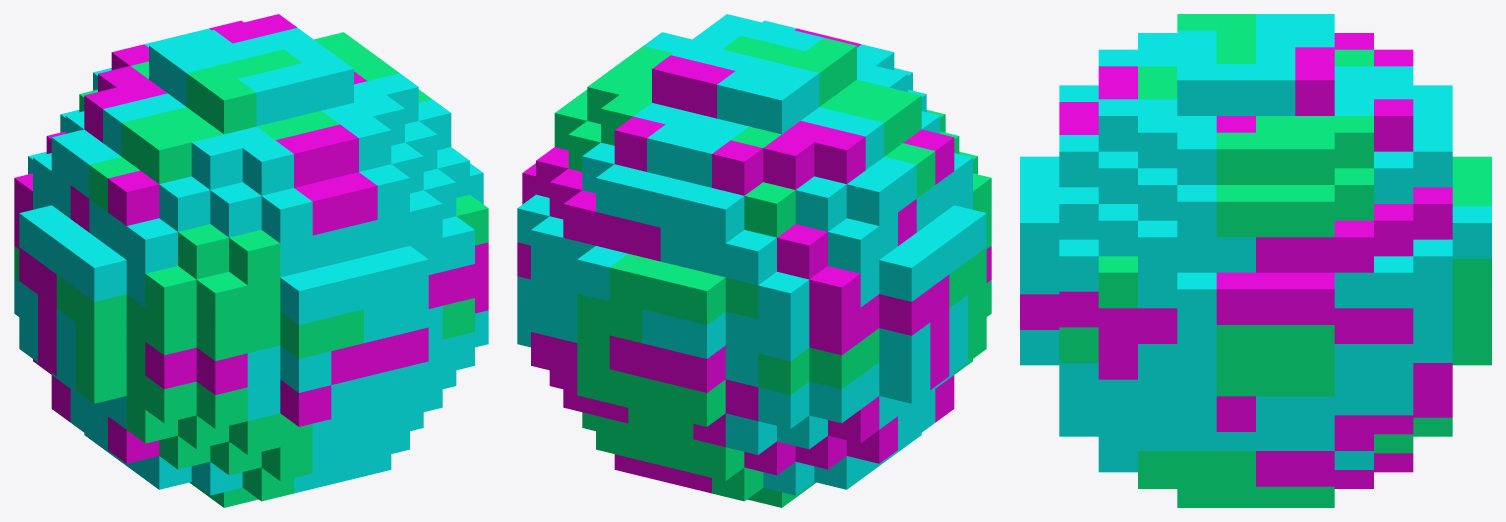
File: planetas-12-colorido.obj
3 views of the same model, side by side, from view 1: azimuth 30°, elevation 25°; view 2: azimuth 150°, elevation 25°; view 3: azimuth 270°, elevation 25° (orthographic). The views are drawn at different scales.
Bounding box in the file's own units: 1.2 × 1.2 × 1.2.
Materials: 1 (1 with a texture image).
